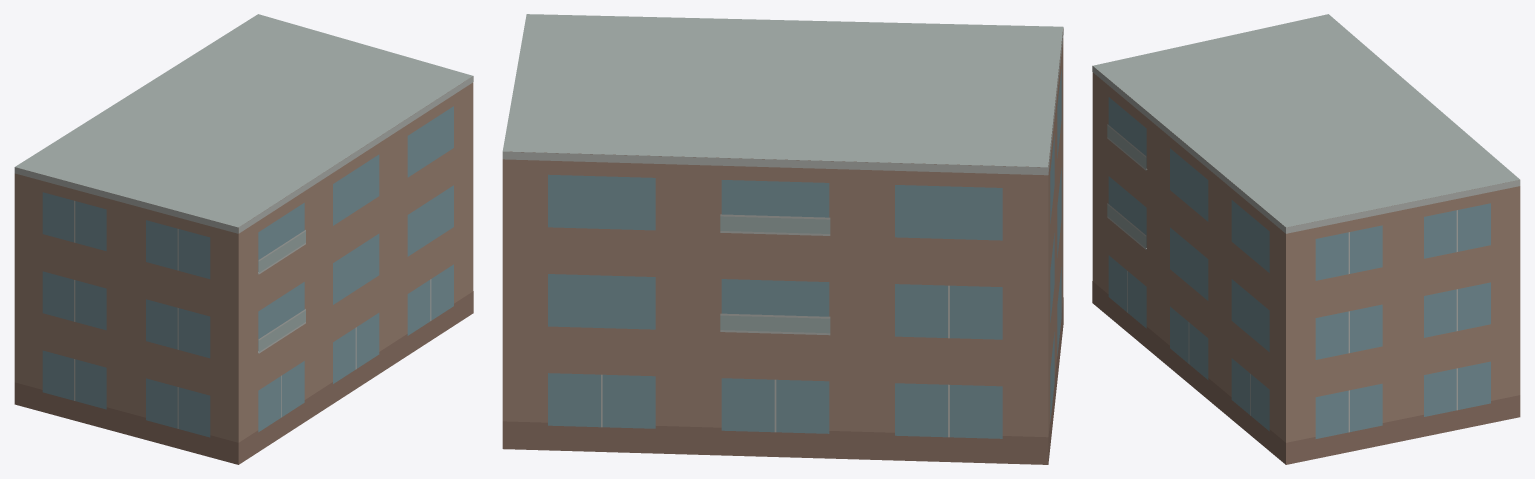
File: survey-upis-32935923.glb
The picture shows the model from 3 angles, left to right: view 1: azimuth 30°, elevation 25°; view 2: azimuth 150°, elevation 25°; view 3: azimuth 270°, elevation 25°; orthographic projection. The views are drawn at different scales.
Parts seen in each view (by area): view 1: survey-upis-32935923.tmp; view 2: survey-upis-32935923.tmp; view 3: survey-upis-32935923.tmp.
Part boxes in pixels (x1,y1,x2,y2): survey-upis-32935923.tmp: (14,14,473,464); survey-upis-32935923.tmp: (502,14,1063,464); survey-upis-32935923.tmp: (1092,14,1520,464).
Size of the model in its own units: 17.66 by 9.15 by 14.95.
